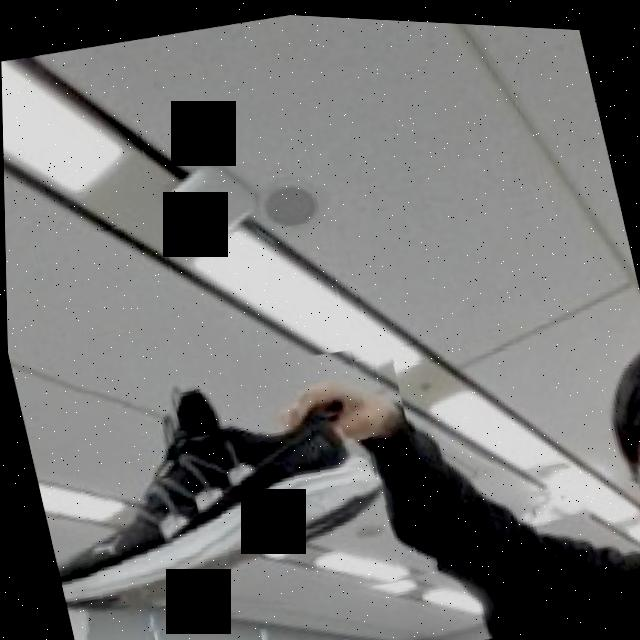shoe: (16, 323, 444, 640)
